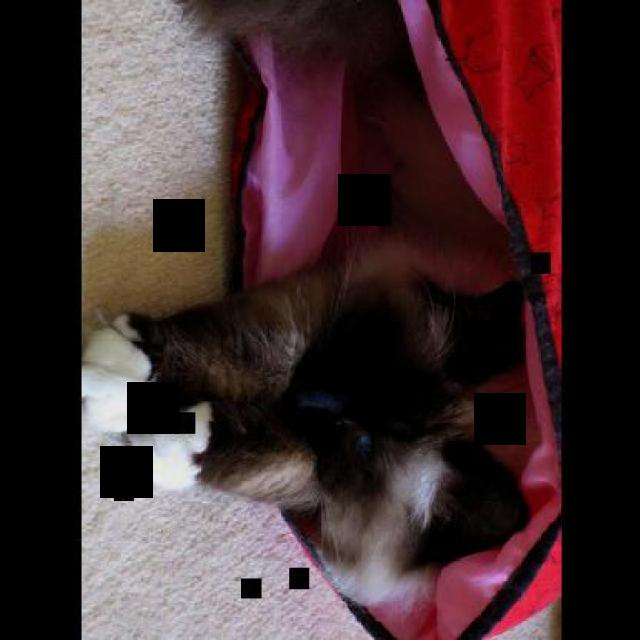unauthorized: (83, 235, 535, 614)
